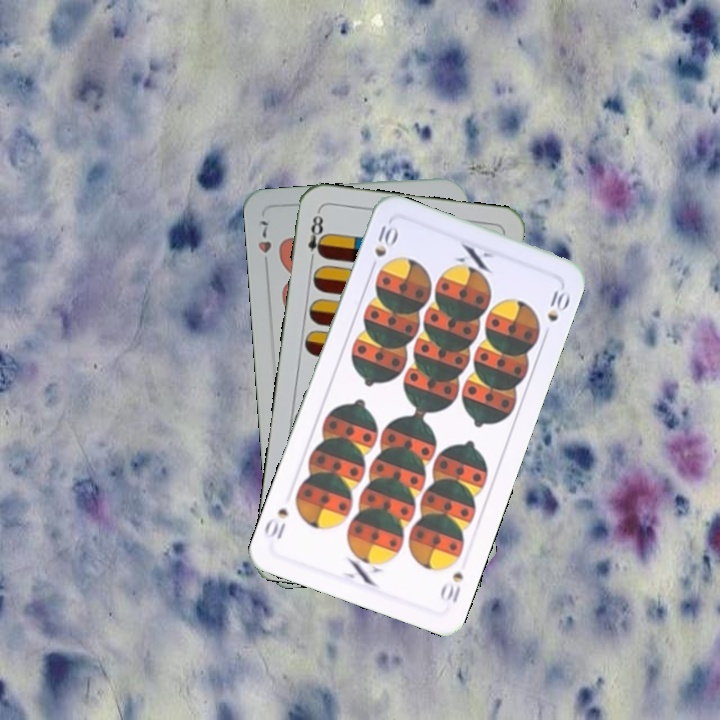E8: (304, 208, 329, 267)
H7: (253, 215, 274, 273)
S10: (366, 218, 400, 275), (436, 568, 466, 606)
